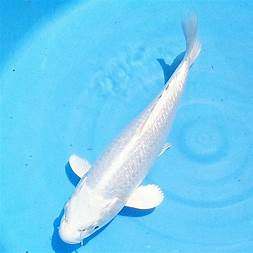white: (59, 7, 205, 245)
